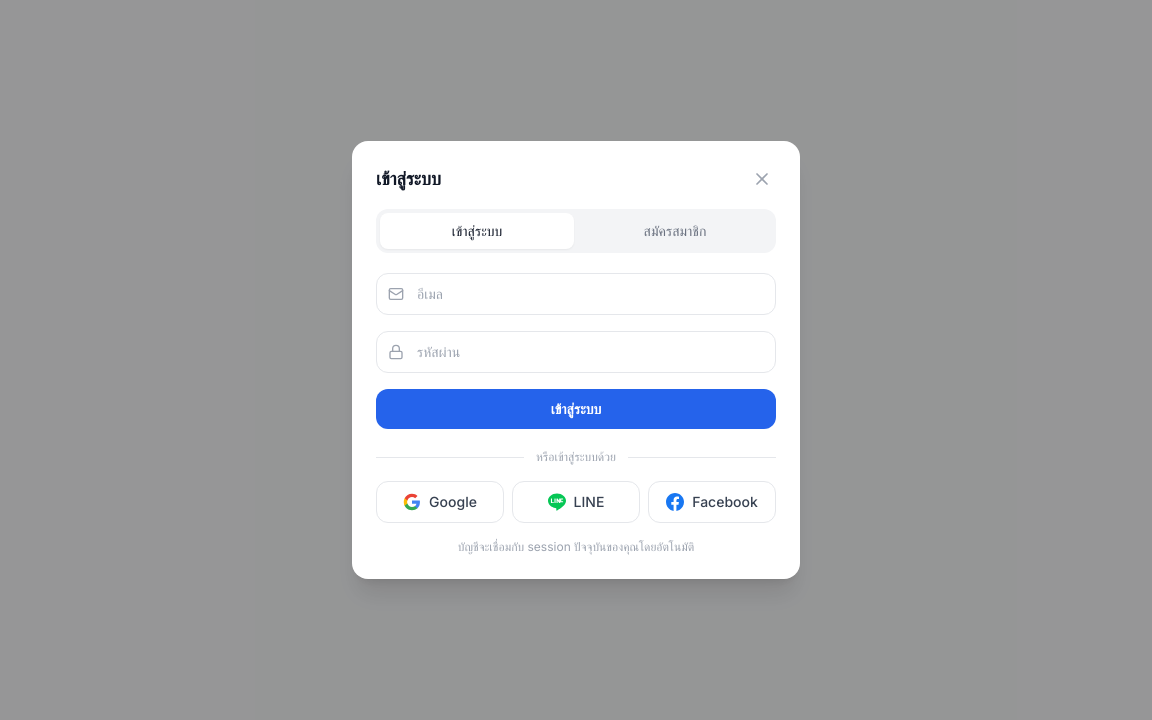
AuthModal › shows error message on login failure
Type "bad@example.com" into the field with placeholder "อีเมล".
click(576, 294); type("bad@example.com")  # box [376,273,776,315]
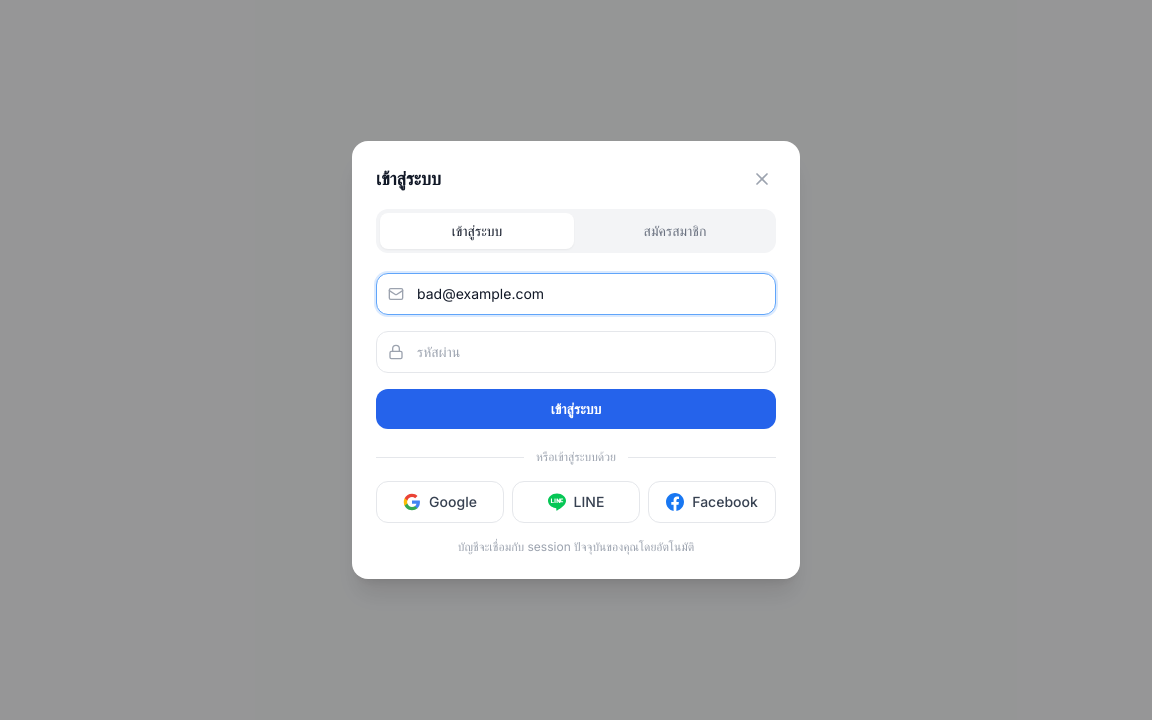
Type "wrongpass1" into the password field with placeholder "รหัสผ่าน".
click(576, 352); type("wrongpass1")  # box [376,331,776,373]
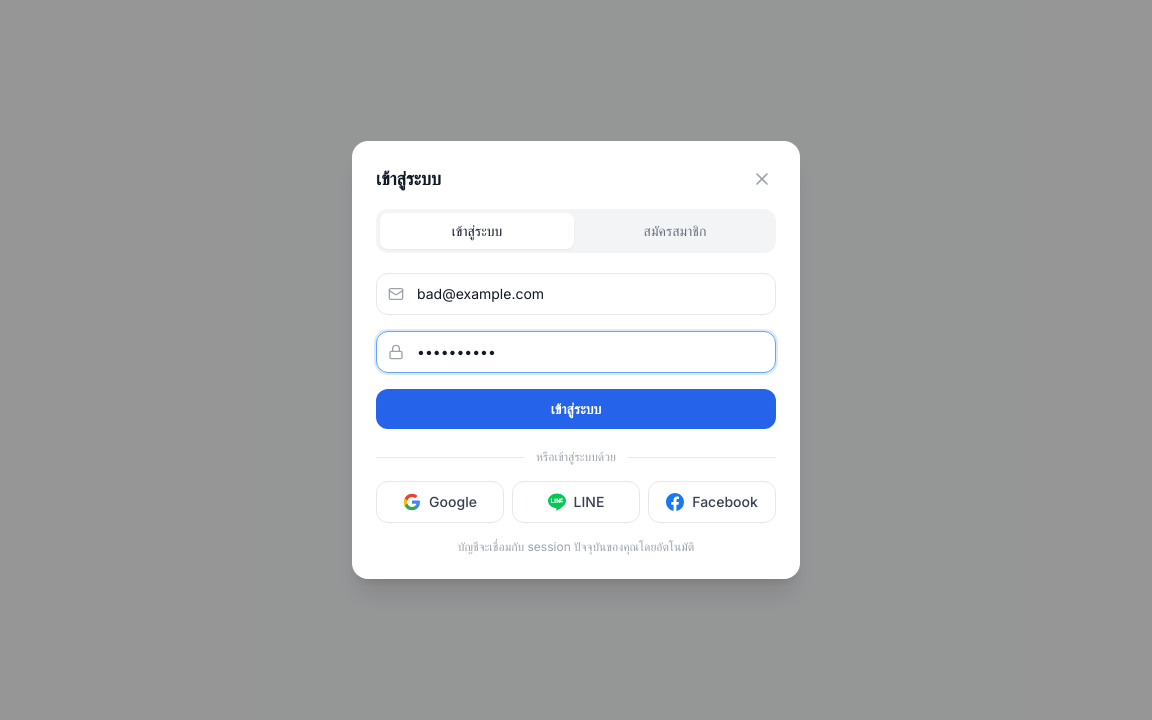
Click the 2nd button "เข้าสู่ระบบ".
click(576, 409)  # box [376,389,776,429]
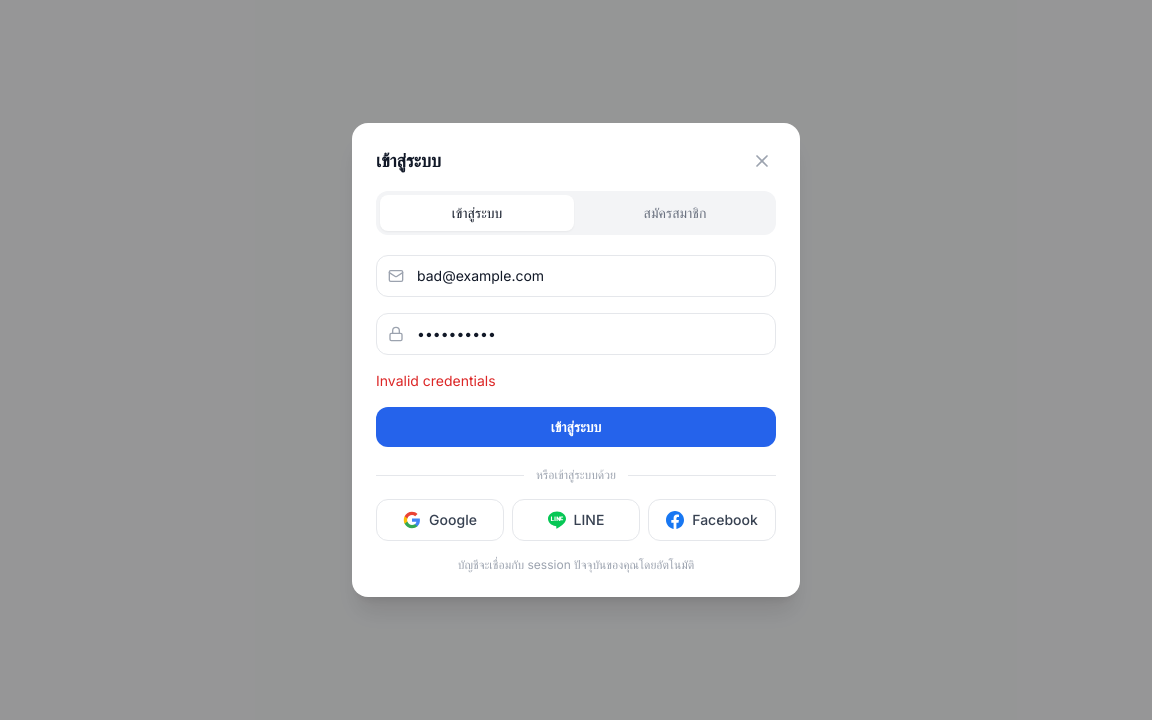
Check: the text "Invalid credentials" is shown, box [376,372,496,389]
